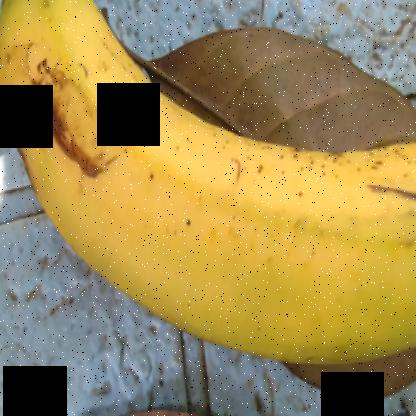ripe: (1, 0, 415, 376)
